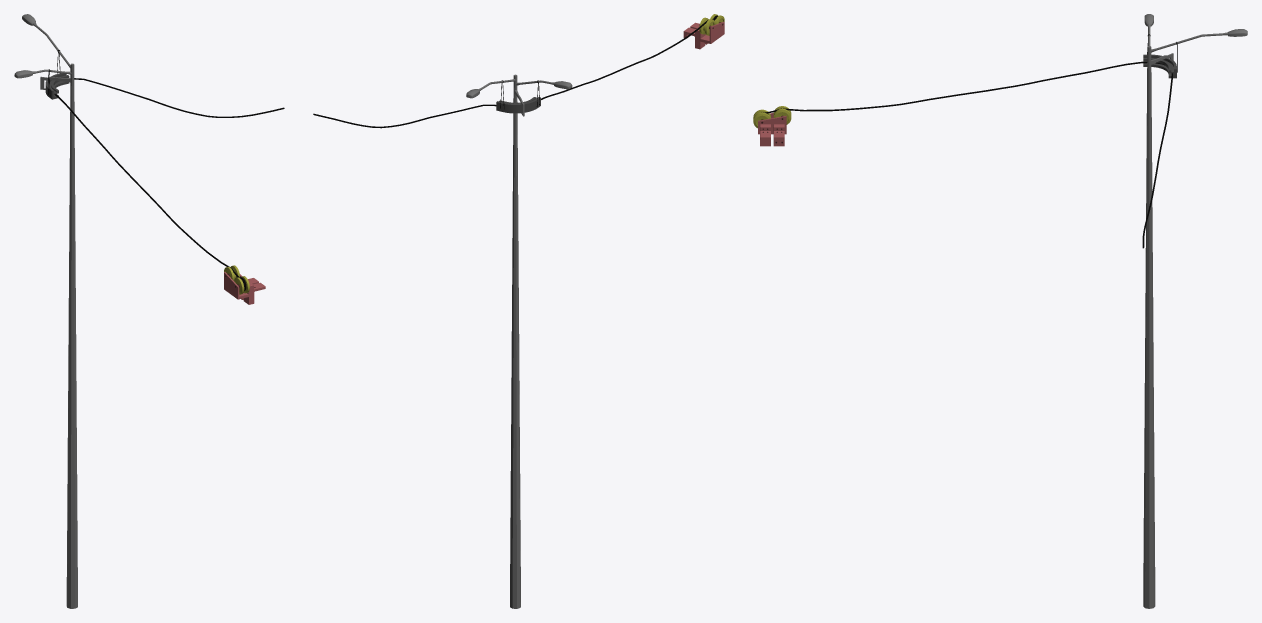
The model's file is cableSysMesh.fbx.
3 views of the same model, side by side, from view 1: azimuth 30°, elevation 25°; view 2: azimuth 150°, elevation 25°; view 3: azimuth 270°, elevation 25° (orthographic). The views are drawn at different scales.
Visible parts, largest first — view 1: pCylinder80; view 2: pCylinder80; view 3: pCylinder80.
Part boxes in pixels (bbox=[...]): pCylinder80: bbox=[14, 14, 284, 608]; pCylinder80: bbox=[313, 14, 724, 608]; pCylinder80: bbox=[753, 14, 1247, 608].
Bounding box in the file's own units: 11.49 × 23.08 × 17.93.
